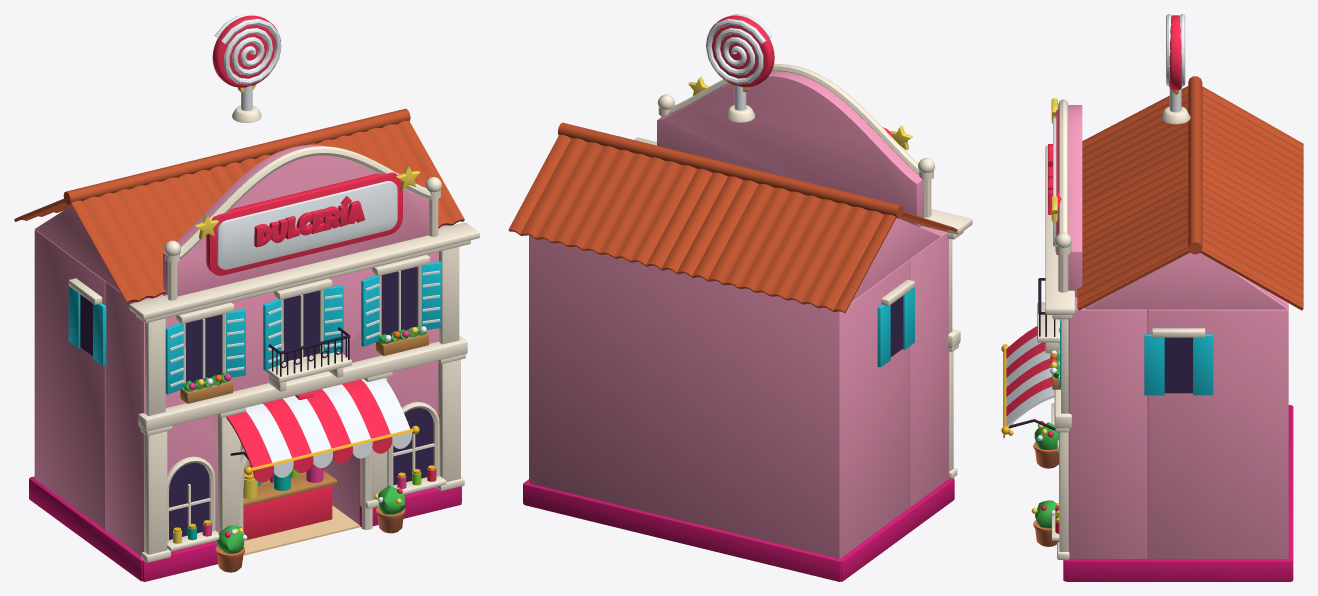
Rendered from lobby_shop_dulceria.obj.
3 views of the same model, side by side, from view 1: azimuth 30°, elevation 25°; view 2: azimuth 150°, elevation 25°; view 3: azimuth 270°, elevation 25° (orthographic).
Parts seen in each view (by area): view 1: lobby_shop_dulceria, lobby_shop_dulceria_Sign; view 2: lobby_shop_dulceria; view 3: lobby_shop_dulceria, lobby_shop_dulceria_Sign.
Boxes of the visible parts, x1,y1,x2,y2 form: lobby_shop_dulceria: (14, 14, 479, 581); lobby_shop_dulceria_Sign: (195, 165, 419, 275); lobby_shop_dulceria: (508, 14, 972, 581); lobby_shop_dulceria: (1001, 14, 1303, 581); lobby_shop_dulceria_Sign: (1048, 98, 1061, 254).
Size of the model in its own units: 25 by 34.13 by 19.25.
2 materials, 2 textured.
